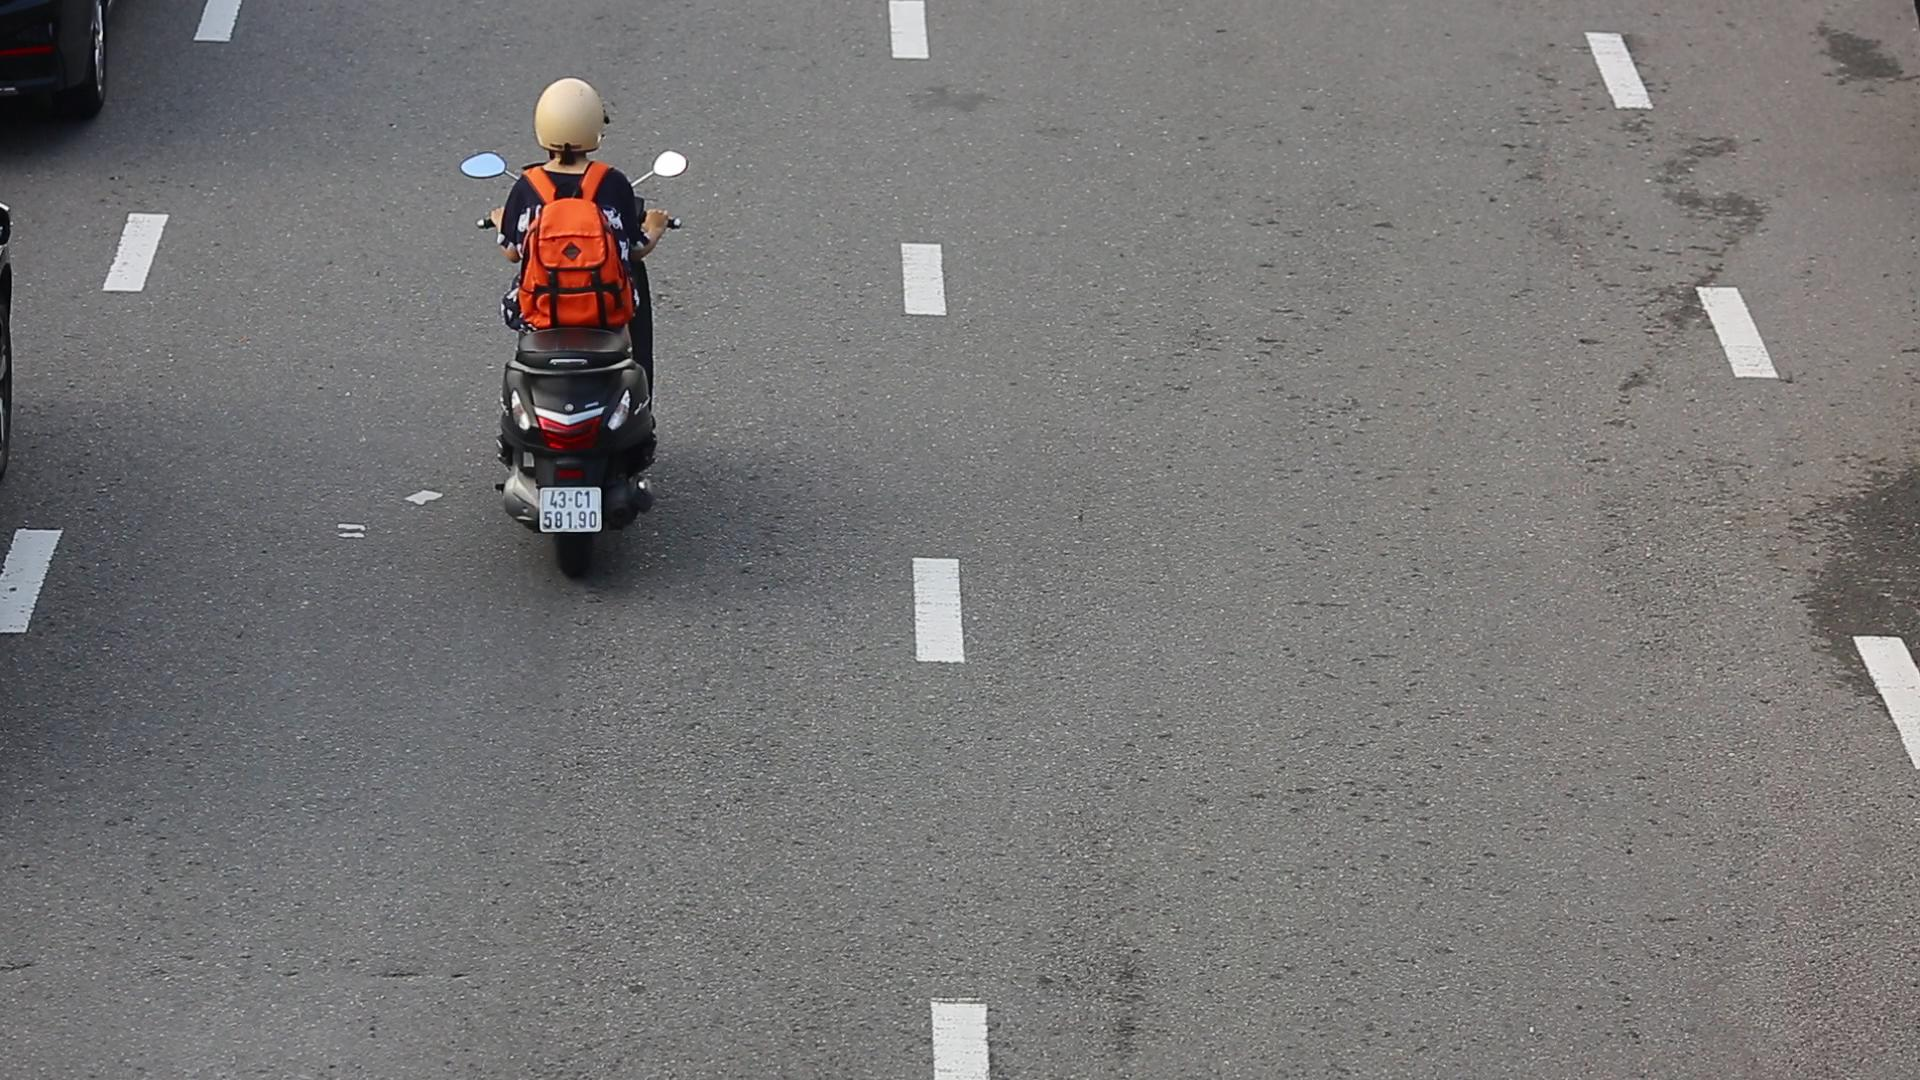motobike: (463, 76, 699, 593)
